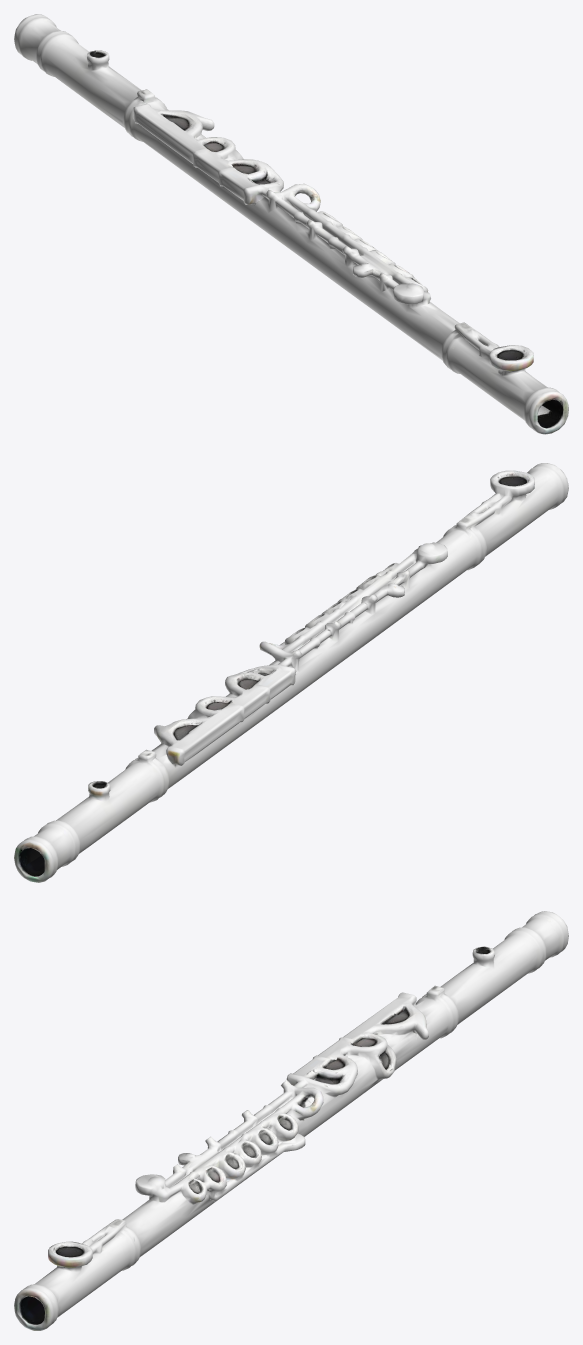
Rendered from flute.glb.
3 renders of one model, top to bottom at view 1: azimuth 30°, elevation 25°; view 2: azimuth 150°, elevation 25°; view 3: azimuth 330°, elevation 25°, orthographic.
Visible parts, largest first — view 1: mesh; view 2: mesh; view 3: mesh.
Part boxes in pixels (<box>): mesh: <box>14,14,568,434</box>; mesh: <box>14,463,568,882</box>; mesh: <box>14,911,568,1330</box>.
Size of the model in its own units: 0.066 by 0.0592 by 1.
1 material, 1 textured.
